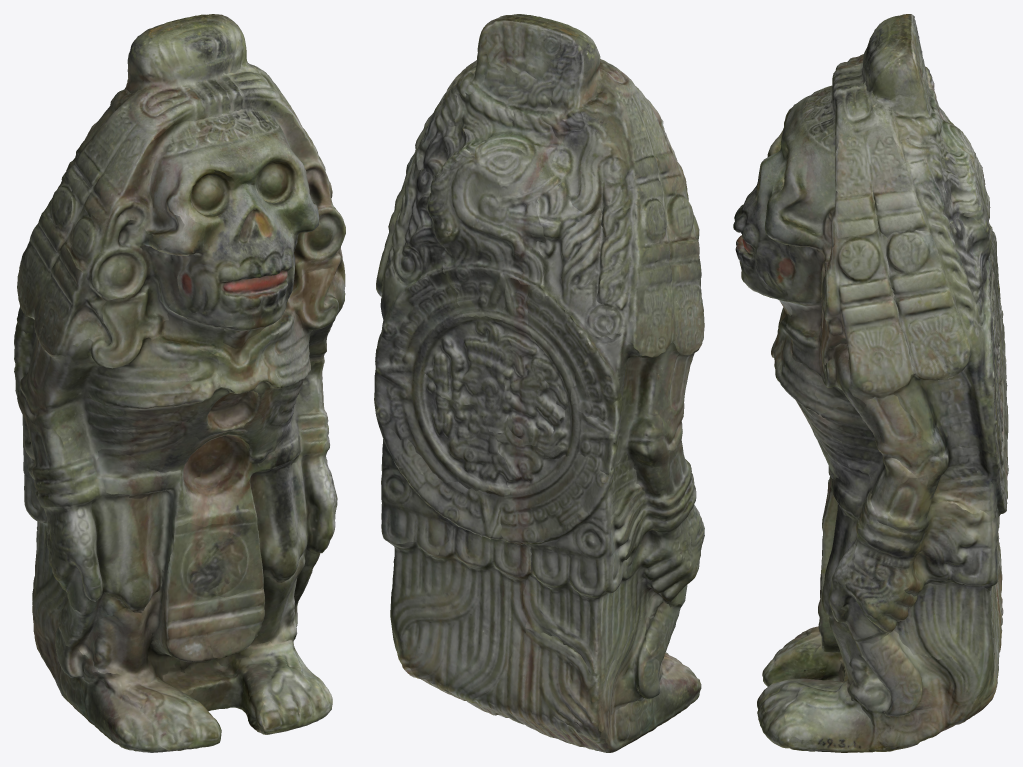
The model's file is mictlantecutli-transformed.glb.
3 renders of one model, left to right at view 1: azimuth 30°, elevation 25°; view 2: azimuth 150°, elevation 25°; view 3: azimuth 270°, elevation 25°, orthographic. The views are drawn at different scales.
Parts seen in each view (by area): view 1: 1949.03.0001 (mictlantecutli); view 2: 1949.03.0001 (mictlantecutli); view 3: 1949.03.0001 (mictlantecutli).
Part boxes in pixels (x1=…): 1949.03.0001 (mictlantecutli): x1=14, y1=14, x2=345, y2=752; 1949.03.0001 (mictlantecutli): x1=374, y1=14, x2=704, y2=752; 1949.03.0001 (mictlantecutli): x1=733, y1=14, x2=1008, y2=752.
Bounding box in the file's own units: 0.1265 × 0.2872 × 0.105.
Materials: 1 (1 with a texture image).
